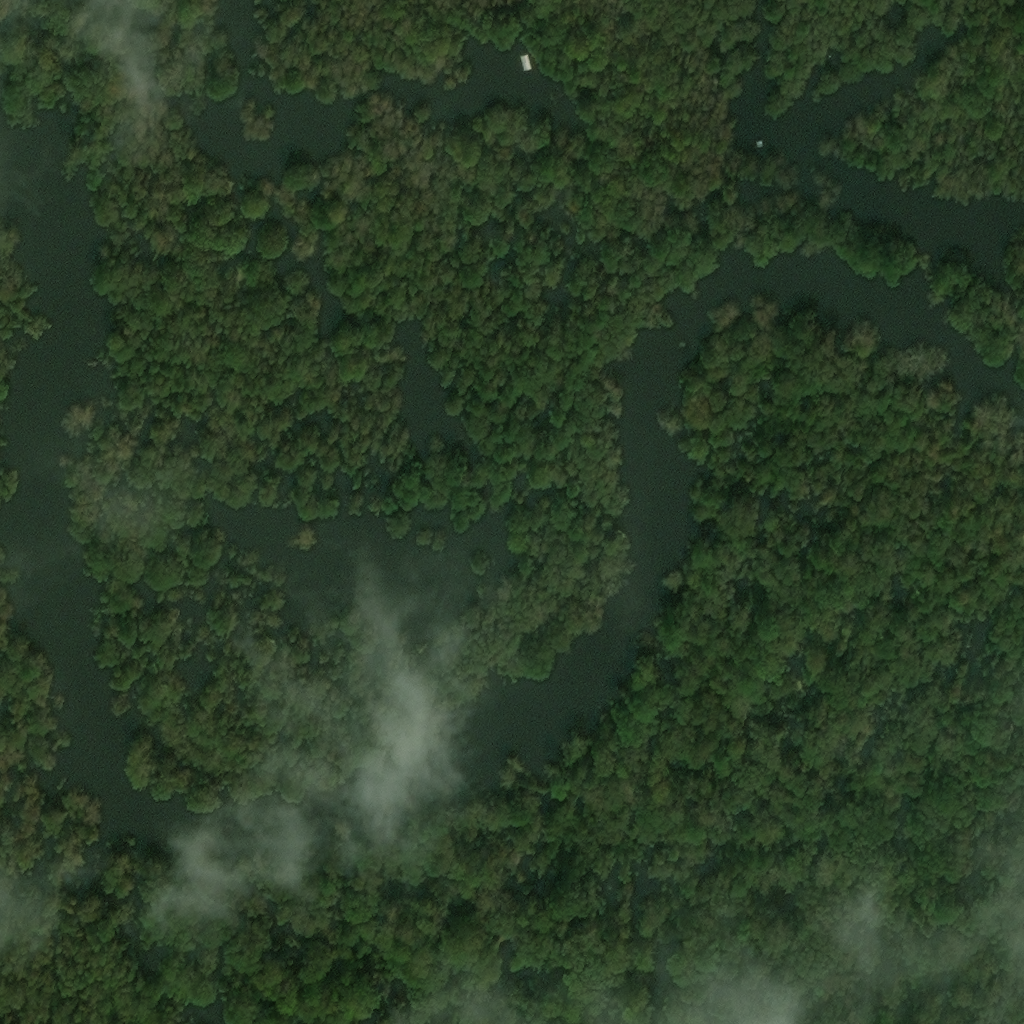major_damage: (521, 53, 531, 71)
